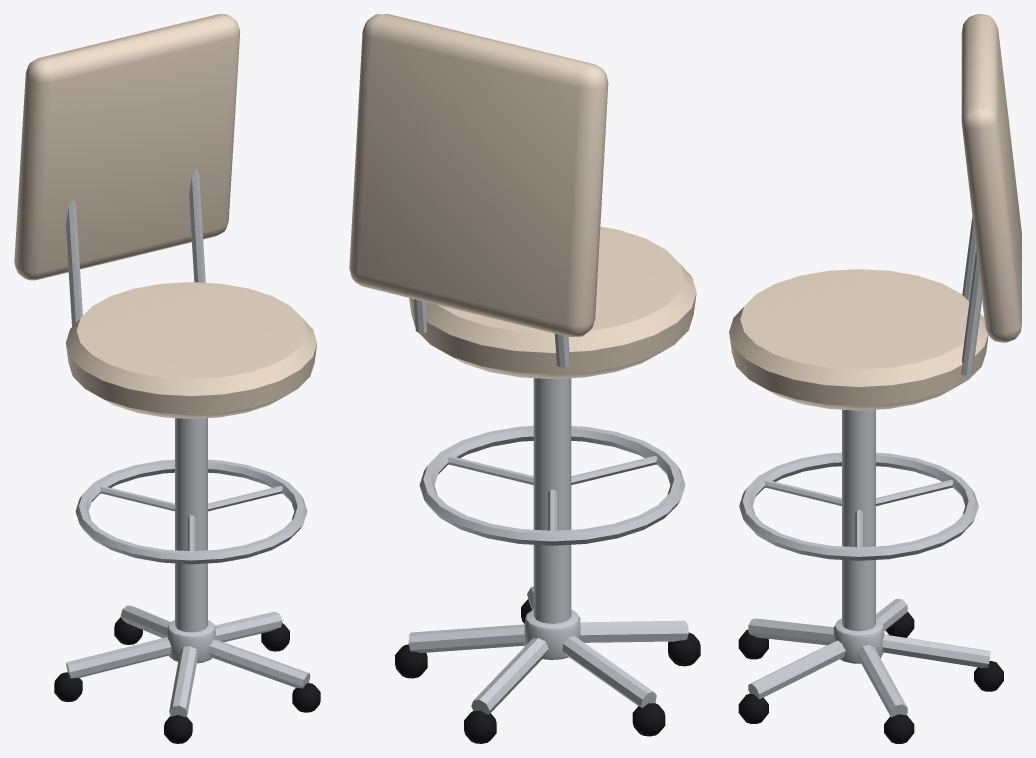
The model's file is cadeira-de-camarim.glb.
The picture shows the model from 3 angles, left to right: view 1: azimuth 30°, elevation 25°; view 2: azimuth 150°, elevation 25°; view 3: azimuth 270°, elevation 25°; orthographic projection. The views are drawn at different scales.
Visible parts, largest first — view 1: encosto, assento, coluna, apoio-pes, pata.002, pata.004, haste-encosto, pata.003, haste-encosto.001, pata, cubo, pata.001 (+7 smaller); view 2: encosto, assento, coluna, apoio-pes, pata, pata.003, pata.002, pata.001, cubo, rodizio.002, rodizio.001, rodizio (+3 smaller); view 3: assento, encosto, coluna, apoio-pes, pata.001, pata.004, pata.003, pata, haste-encosto.001, cubo, rodizio, rodizio.004 (+6 smaller).
Part boxes in pixels (x1,y1,x2,y2): encosto: (14, 14, 240, 280); assento: (65, 282, 317, 418); coluna: (175, 418, 207, 632); apoio-pes: (75, 459, 307, 564); pata.002: (66, 637, 171, 678); pata.004: (208, 639, 310, 688); haste-encosto: (66, 199, 82, 326); pata.003: (169, 646, 198, 717); haste-encosto.001: (189, 169, 205, 282); pata: (215, 611, 282, 641); cubo: (167, 620, 215, 663); pata.001: (120, 605, 170, 637); encosto: (349, 14, 608, 336); assento: (409, 226, 696, 378); coluna: (533, 378, 571, 623); apoio-pes: (419, 426, 685, 545); pata: (408, 624, 524, 652); pata.003: (580, 620, 688, 642); pata.002: (562, 636, 656, 707); pata.001: (471, 638, 548, 714); cubo: (524, 609, 580, 659); rodizio.002: (632, 703, 665, 736); rodizio.001: (464, 710, 496, 743); rodizio: (395, 644, 427, 678); assento: (729, 269, 988, 410); encosto: (961, 14, 1021, 342); coluna: (842, 409, 875, 631); apoio-pes: (739, 452, 978, 560); pata.001: (882, 634, 990, 667); pata.004: (748, 640, 845, 699); pata.003: (748, 618, 833, 645); pata: (857, 644, 907, 717); haste-encosto.001: (961, 249, 981, 375); cubo: (833, 618, 884, 663); rodizio: (884, 714, 914, 743); rodizio.004: (738, 693, 768, 723).
Size of the model in its own units: 0.4881 by 1.23 by 0.5183.
